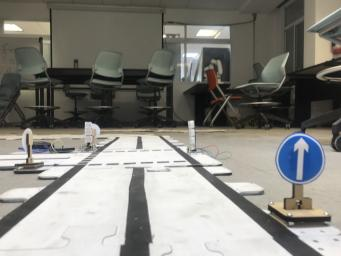forward: (268, 132, 331, 226)
street: (0, 135, 298, 255)
